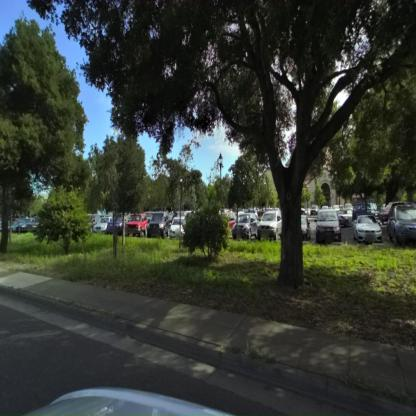car: (386, 203, 415, 247), (314, 209, 342, 244), (230, 212, 260, 241), (354, 216, 384, 244), (257, 209, 281, 241), (92, 215, 124, 235), (166, 214, 190, 239), (144, 212, 167, 238), (125, 215, 149, 237), (302, 213, 316, 240), (336, 210, 352, 228)
